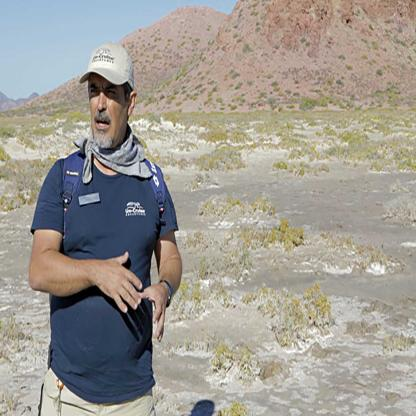person: (20, 42, 179, 408)
